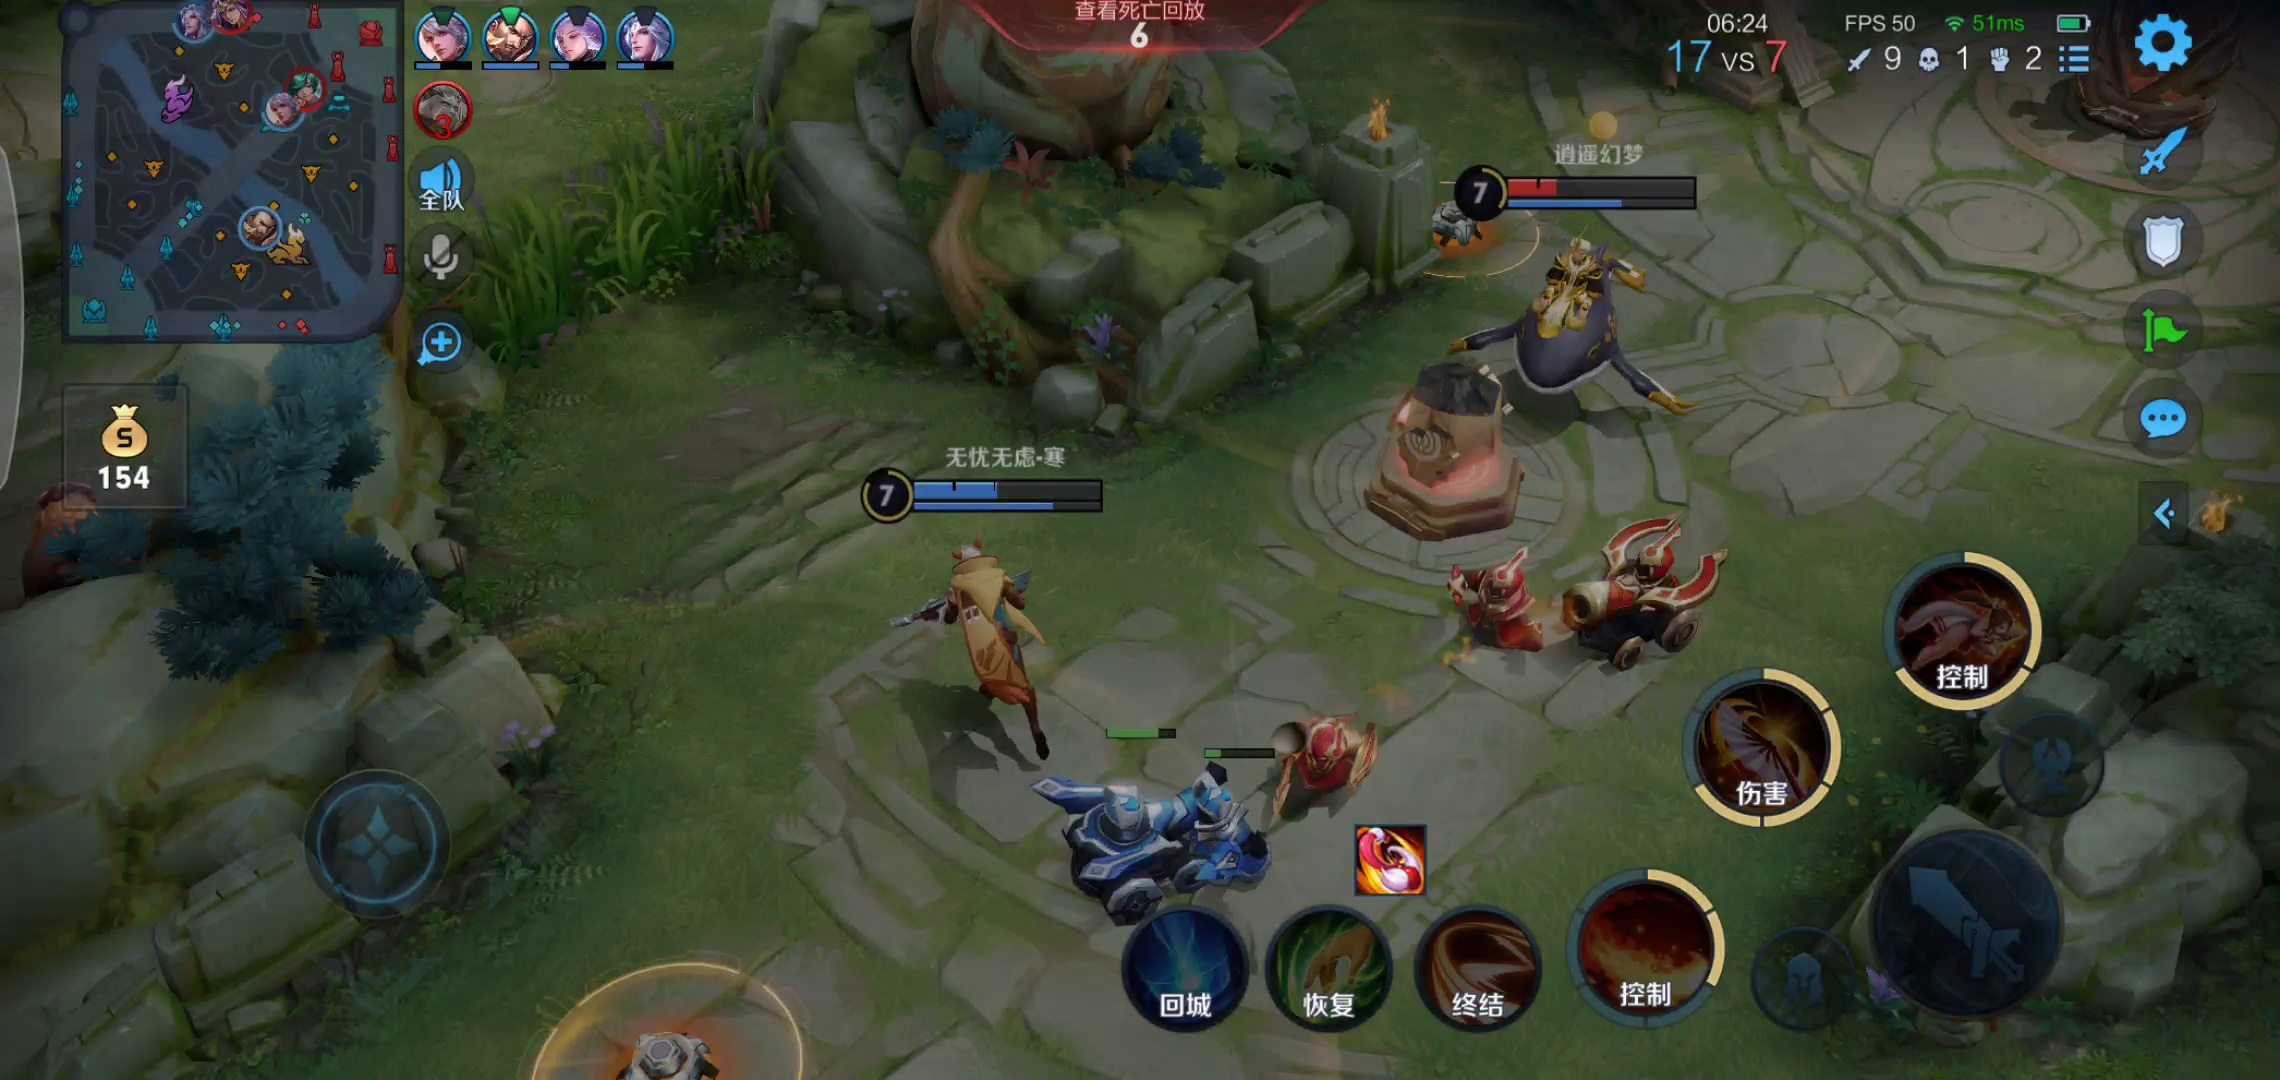grass: (433, 126, 779, 329)
hero: (886, 531, 1082, 751), (1493, 233, 1685, 411)
soldier: (1578, 522, 1714, 673), (1045, 767, 1197, 897), (1277, 692, 1389, 811), (1444, 548, 1556, 661), (1181, 769, 1272, 898)
tower: (1349, 356, 1540, 538)
